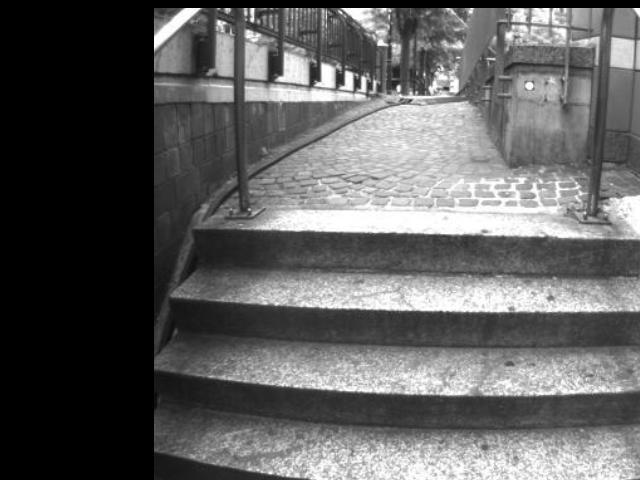Escaleras: (180, 212, 640, 480)
